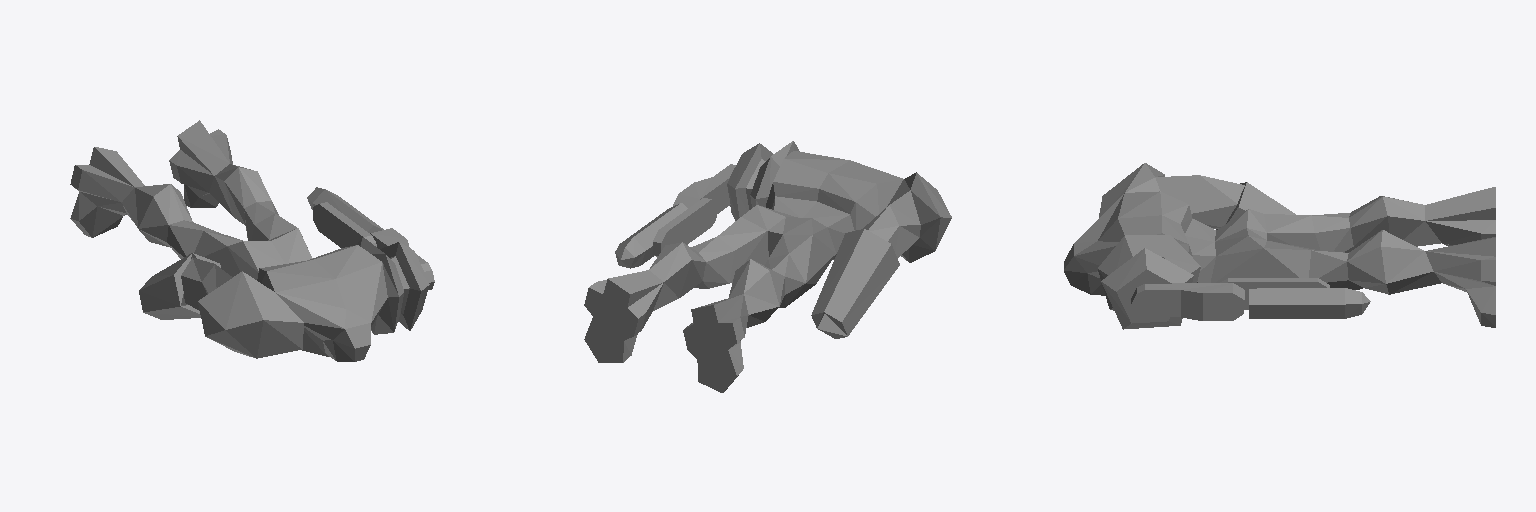
Rendered from quake.obj.
The picture shows the model from 3 angles: view 1: azimuth 30°, elevation 25°; view 2: azimuth 150°, elevation 25°; view 3: azimuth 270°, elevation 25°; orthographic projection.
Visible parts, largest first — view 1: Gunner; view 2: Gunner; view 3: Gunner.
Part boxes in pixels (x1,y1,x2,y2): Gunner: (70,120,434,361); Gunner: (584,141,951,392); Gunner: (1064,163,1495,329).
Size of the model in its own units: 4.72 by 2.11 by 7.65.